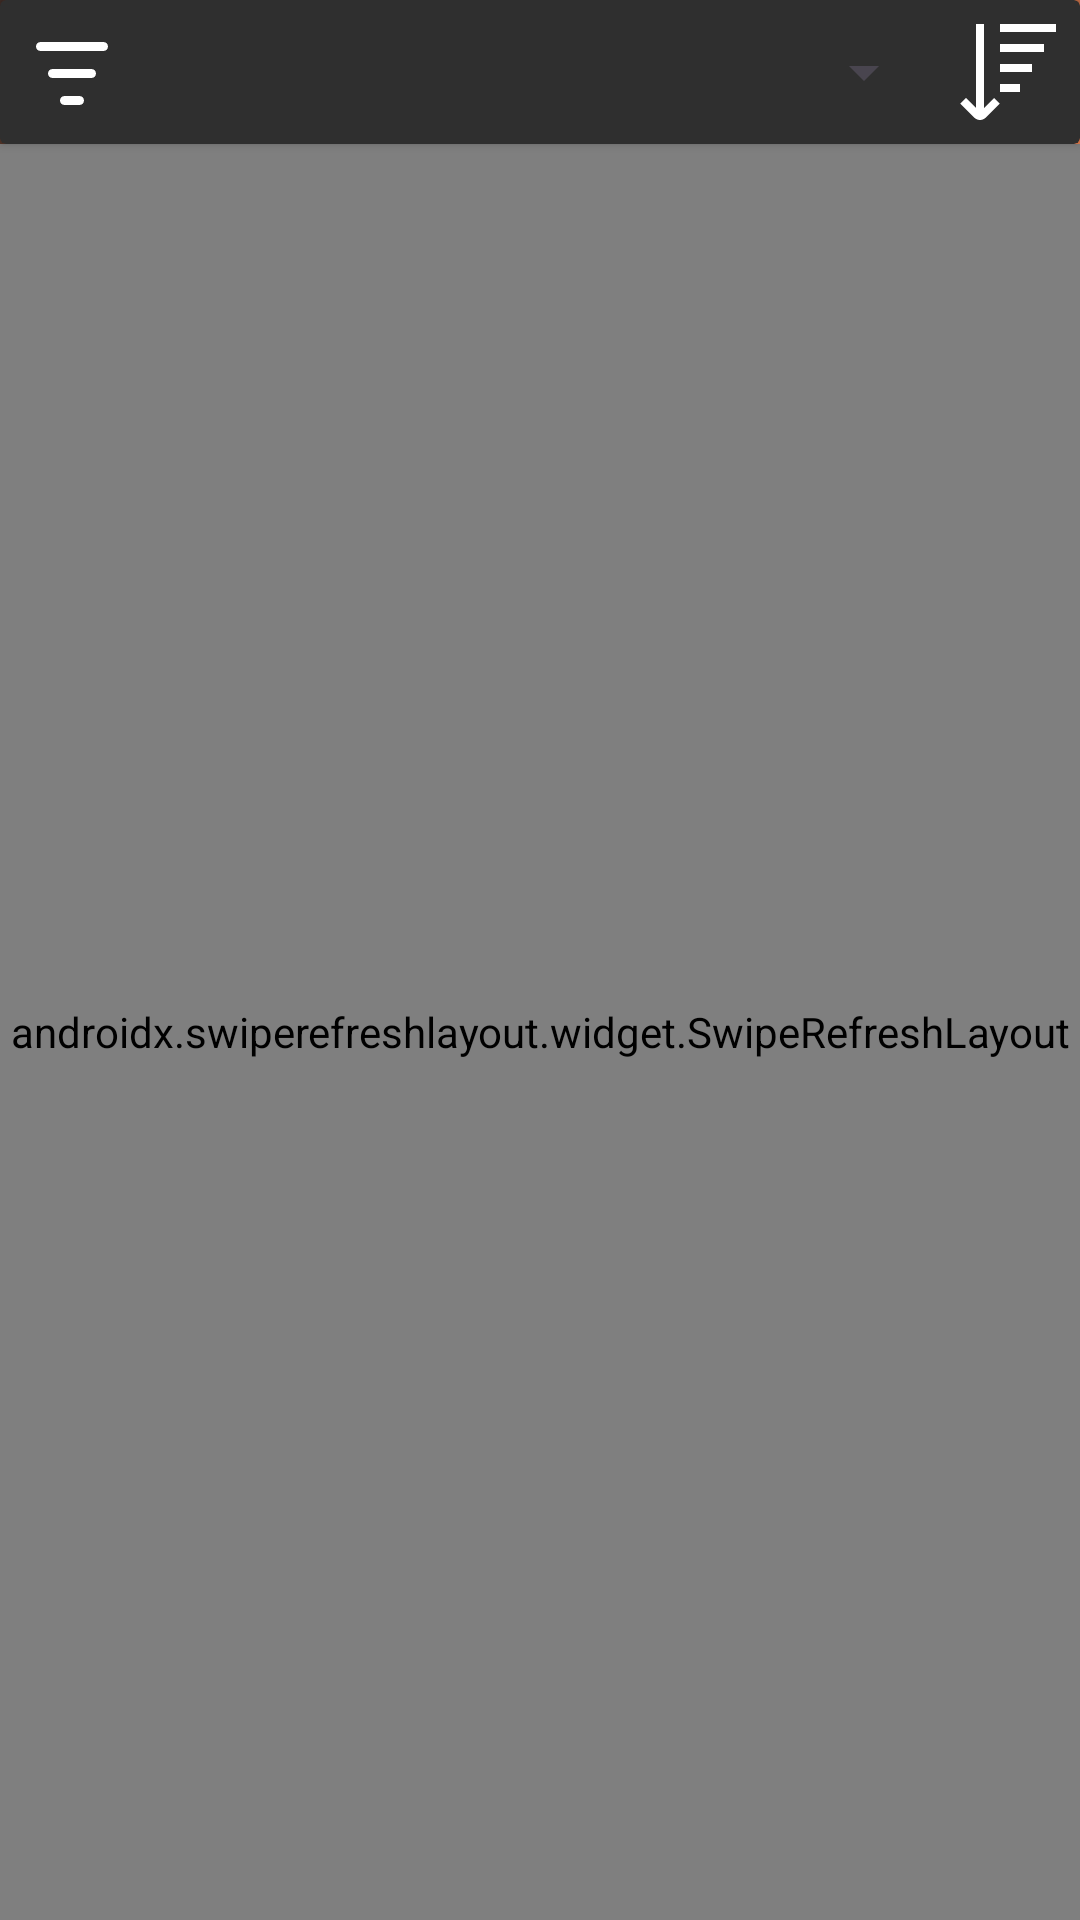

Screen size 1080*1920. Icon name, then its box in pixels as (left=x1, top=y1, right=x2, bottom=y2):
desc: (left=960, top=24, right=1056, bottom=120)
filter: (left=36, top=42, right=108, bottom=105)
